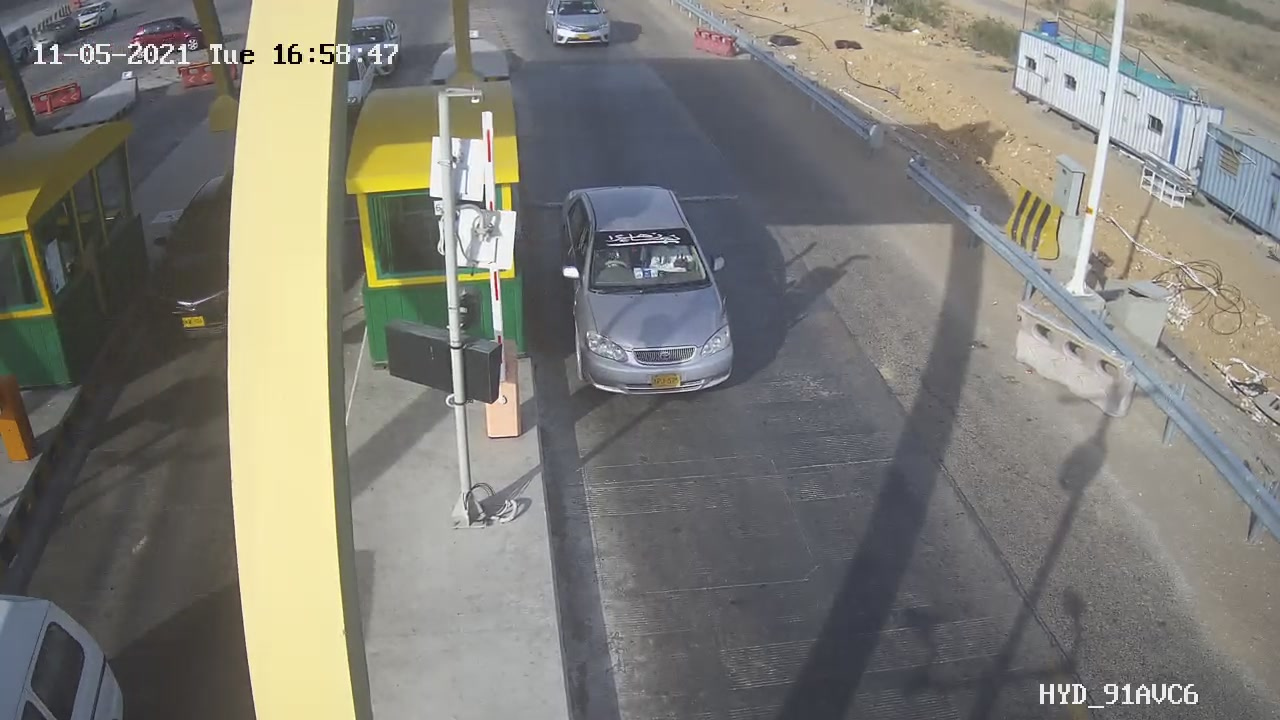F1: (539, 168, 779, 427)
